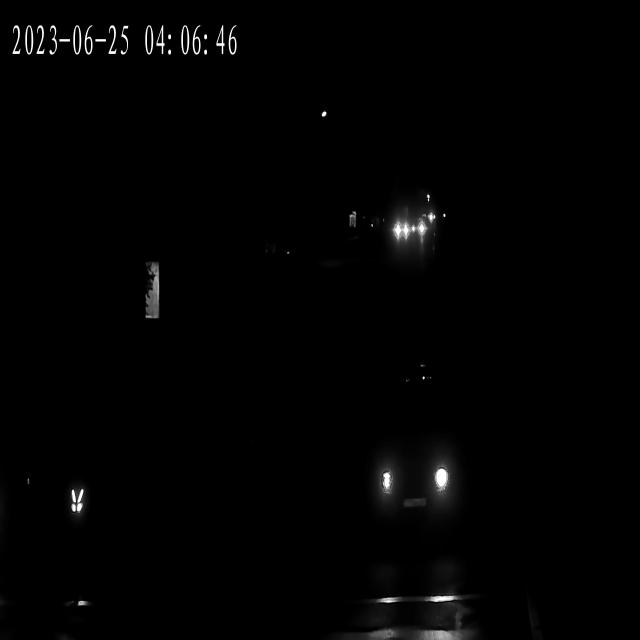Car: (370, 430, 456, 520), (409, 220, 428, 237), (391, 224, 408, 243), (423, 211, 437, 224)
